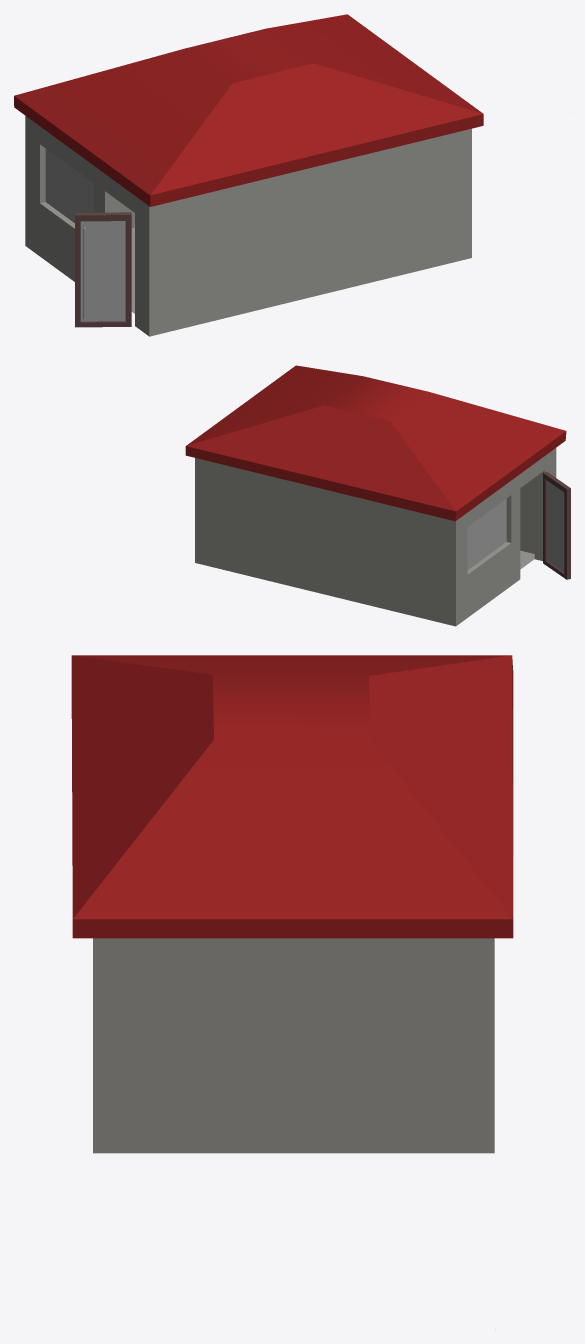
Rendered from tabakladen_animation.fbx.
3 views of the same model, one above another, from view 1: azimuth 30°, elevation 25°; view 2: azimuth 150°, elevation 25°; view 3: azimuth 270°, elevation 25° (orthographic). The views are drawn at different scales.
Parts seen in each view (by area): view 1: roof, house, pCube1, window2, door1; view 2: house, roof, window2, pCube1, door1; view 3: roof, house.
Part boxes in pixels (x1=…): roof: x1=14, y1=14, x2=483, y2=206; house: x1=25, y1=116, x2=471, y2=336; pCube1: x1=80, y1=221, x2=125, y2=321; window2: x1=45, y1=149, x2=93, y2=222; door1: x1=75, y1=212, x2=131, y2=327; house: x1=195, y1=448, x2=556, y2=626; roof: x1=185, y1=365, x2=566, y2=521; window2: x1=467, y1=499, x2=506, y2=569; pCube1: x1=547, y1=480, x2=564, y2=572; door1: x1=543, y1=472, x2=570, y2=579; roof: x1=71, y1=655, x2=513, y2=938; house: x1=93, y1=938, x2=494, y2=1153.
Size of the model in its own units: 11.02 by 3.5 by 4.4.
